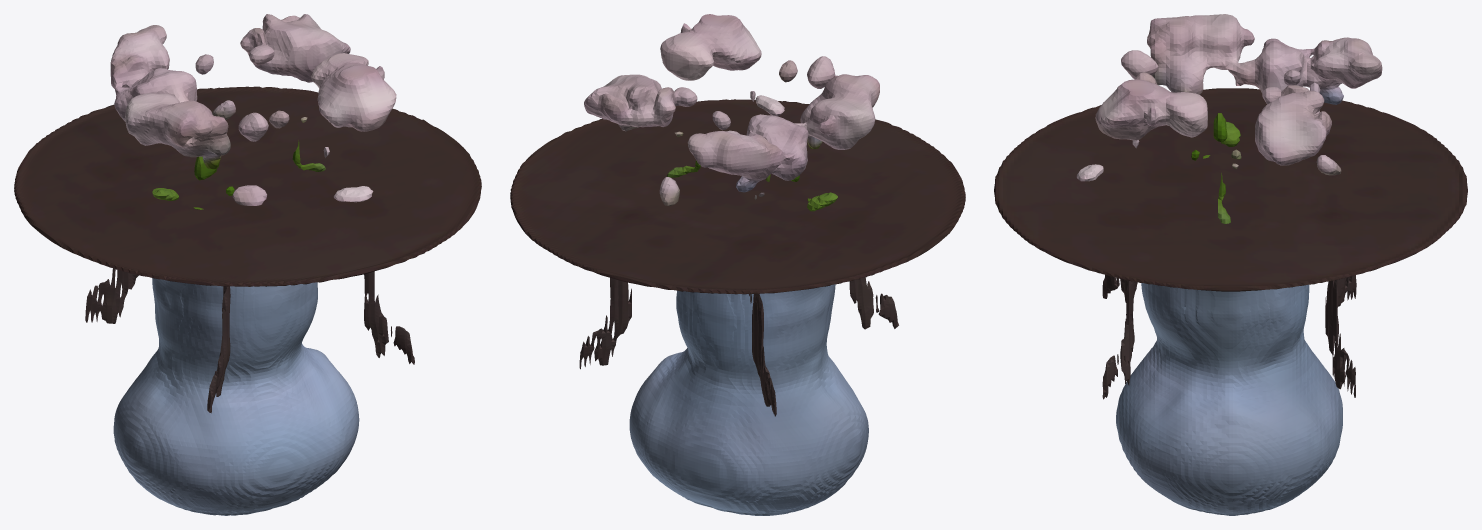
The model's file is final_chair_model.glb.
3 views of the same model, side by side, from view 1: azimuth 30°, elevation 25°; view 2: azimuth 150°, elevation 25°; view 3: azimuth 270°, elevation 25° (orthographic). The views are drawn at different scales.
Visible parts, largest first — view 1: world; view 2: world; view 3: world.
Part boxes in pixels (x1=…): world: x1=14, y1=14, x2=481, y2=515; world: x1=510, y1=14, x2=965, y2=515; world: x1=994, y1=14, x2=1467, y2=515.
Size of the model in its own units: 1.98 by 1.98 by 1.98.
